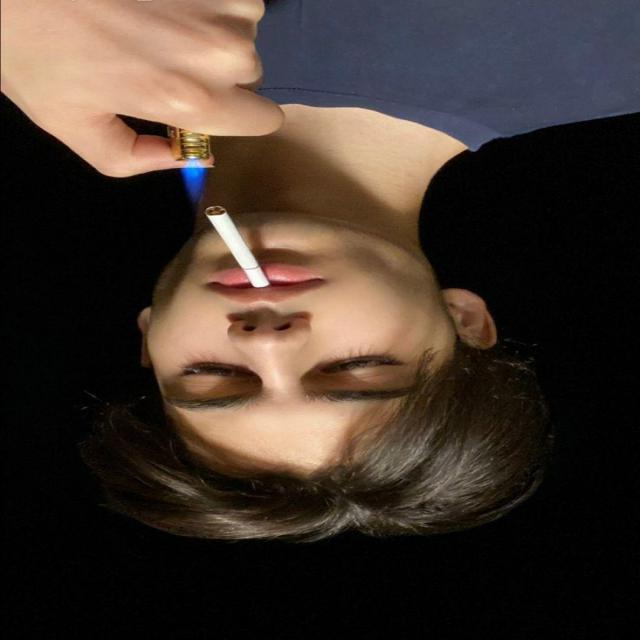cigarette: (186, 196, 291, 297)
